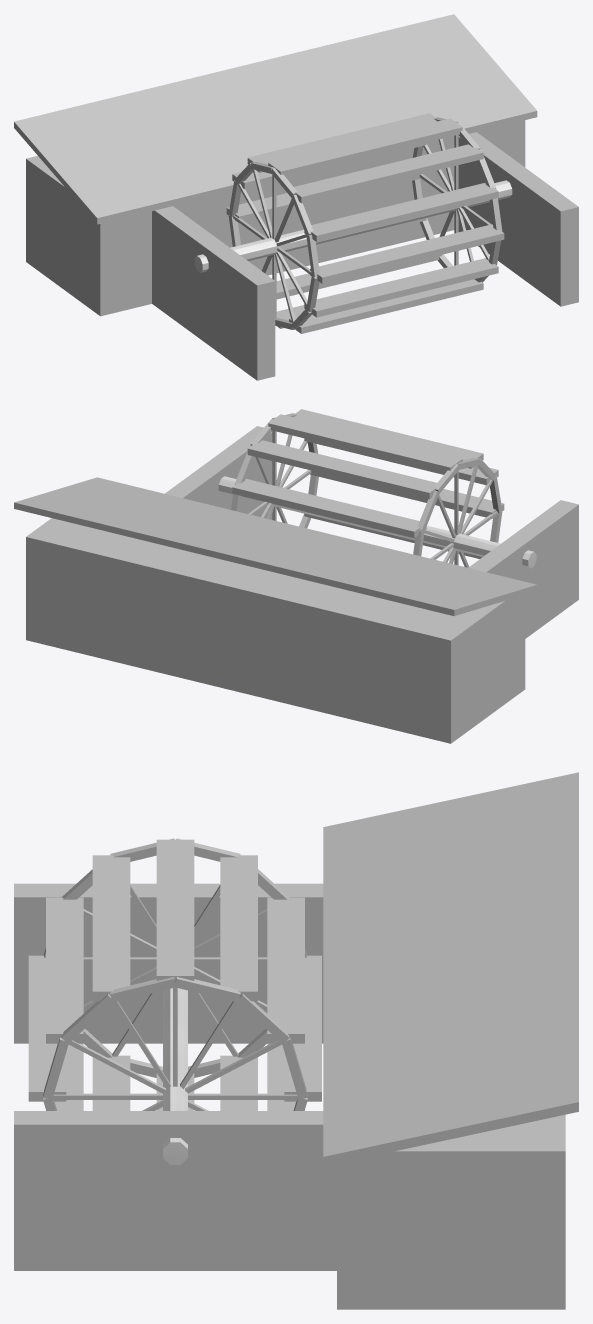
File: watermill.obj
3 renders of one model, top to bottom at view 1: azimuth 30°, elevation 25°; view 2: azimuth 150°, elevation 25°; view 3: azimuth 270°, elevation 25°, orthographic. The views are drawn at different scales.
Parts seen in each view (by area): view 1: watermill; view 2: watermill; view 3: watermill.
Boxes of the visible parts, x1=… form: watermill: x1=14, y1=14, x2=578, y2=380; watermill: x1=14, y1=409, x2=578, y2=743; watermill: x1=14, y1=772, x2=578, y2=1309.
Size of the model in its own units: 5.8 by 1.99 by 4.2.
